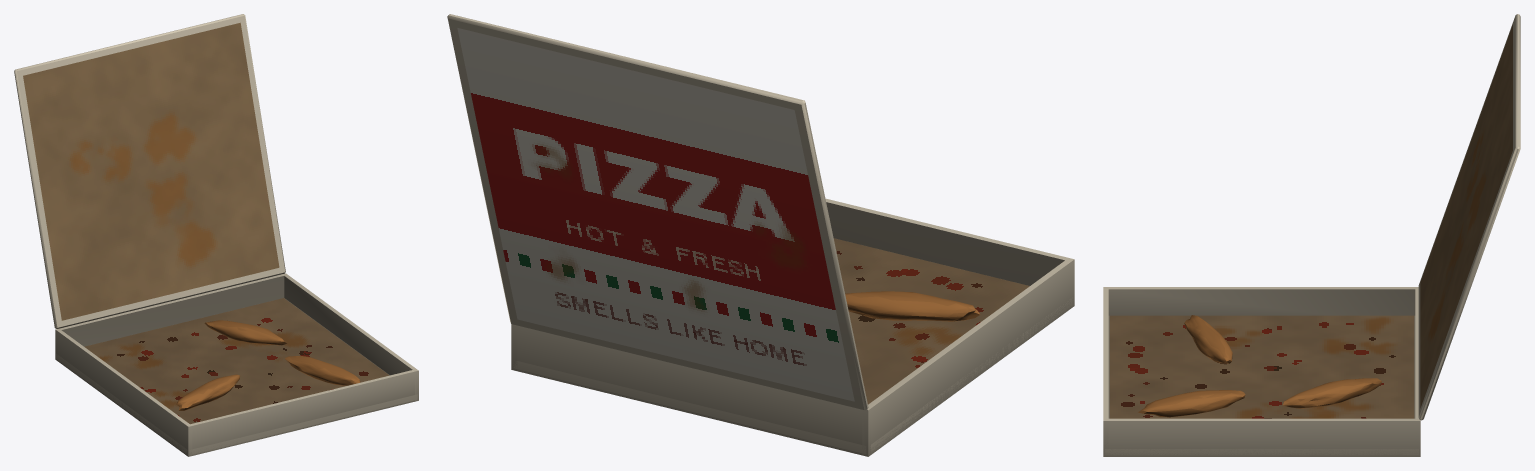
The model's file is pizza_box_open.glb.
The picture shows the model from 3 angles, left to right: view 1: azimuth 30°, elevation 25°; view 2: azimuth 150°, elevation 25°; view 3: azimuth 270°, elevation 25°; orthographic projection. The views are drawn at different scales.
Visible parts, largest first — view 1: panels, body; view 2: panels, body; view 3: panels, body.
Part boxes in pixels (x1=…): panels: x1=23, y1=22, x2=389, y2=424; body: x1=14, y1=14, x2=418, y2=456; panels: x1=457, y1=28, x2=1029, y2=404; body: x1=447, y1=14, x2=1074, y2=456; panels: x1=1109, y1=24, x2=1512, y2=418; body: x1=1103, y1=14, x2=1520, y2=456.
Size of the model in its own units: 0.36 by 0.3877 by 0.4735.
Materials: 3 (1 with a texture image).
